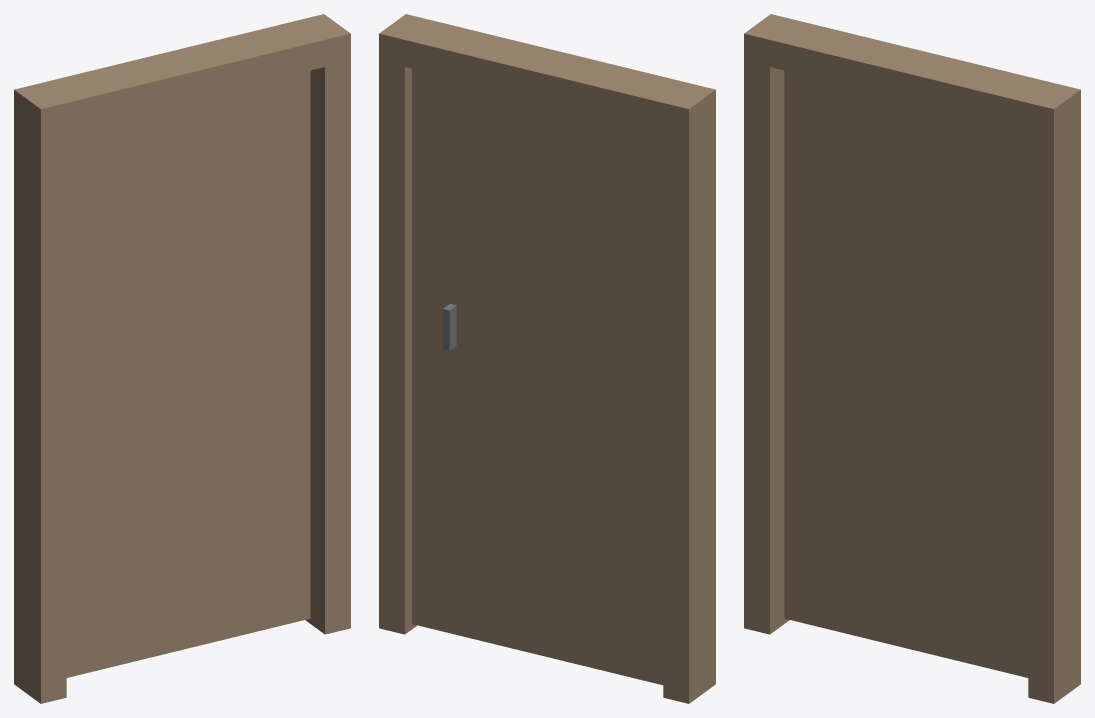
Rendered from door_interior_wood.glb.
3 views of the same model, side by side, from view 1: azimuth 30°, elevation 25°; view 2: azimuth 150°, elevation 25°; view 3: azimuth 330°, elevation 25° (orthographic).
Parts seen in each view (by area): view 1: door_left, body; view 2: door_left, body; view 3: door_left, body.
Part boxes in pixels (bbox=[...]): door_left: bbox=[66, 70, 310, 677]; body: bbox=[14, 14, 350, 703]; door_left: bbox=[412, 69, 663, 685]; body: bbox=[379, 14, 715, 703]; door_left: bbox=[784, 70, 1028, 677]; body: bbox=[744, 14, 1080, 703].
Size of the model in its own units: 1.2 by 2.2 by 0.18.
